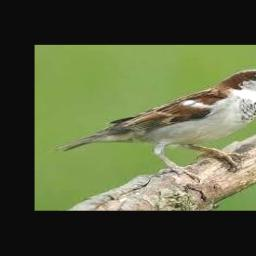Sparrow: (52, 69, 256, 181)
